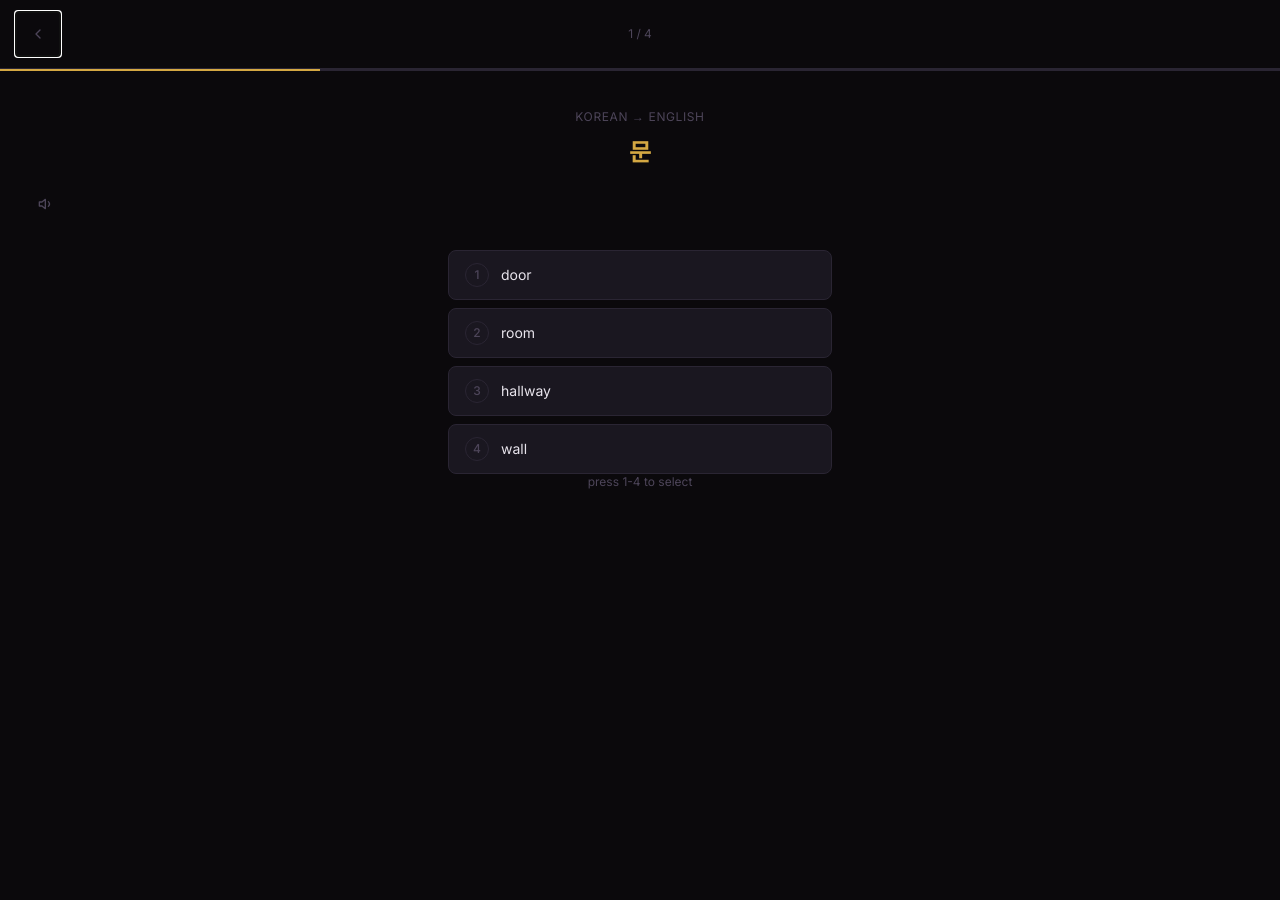
Scenario: FlashcardMode › Next button appears after selecting an option
This screenshot has width=1280, height=900.
Check: the text "Next" is not shown
Note: Select an option
Click the button with aria-label "Option 1:": [516, 274] box x1=448 y1=250 x2=832 y2=300
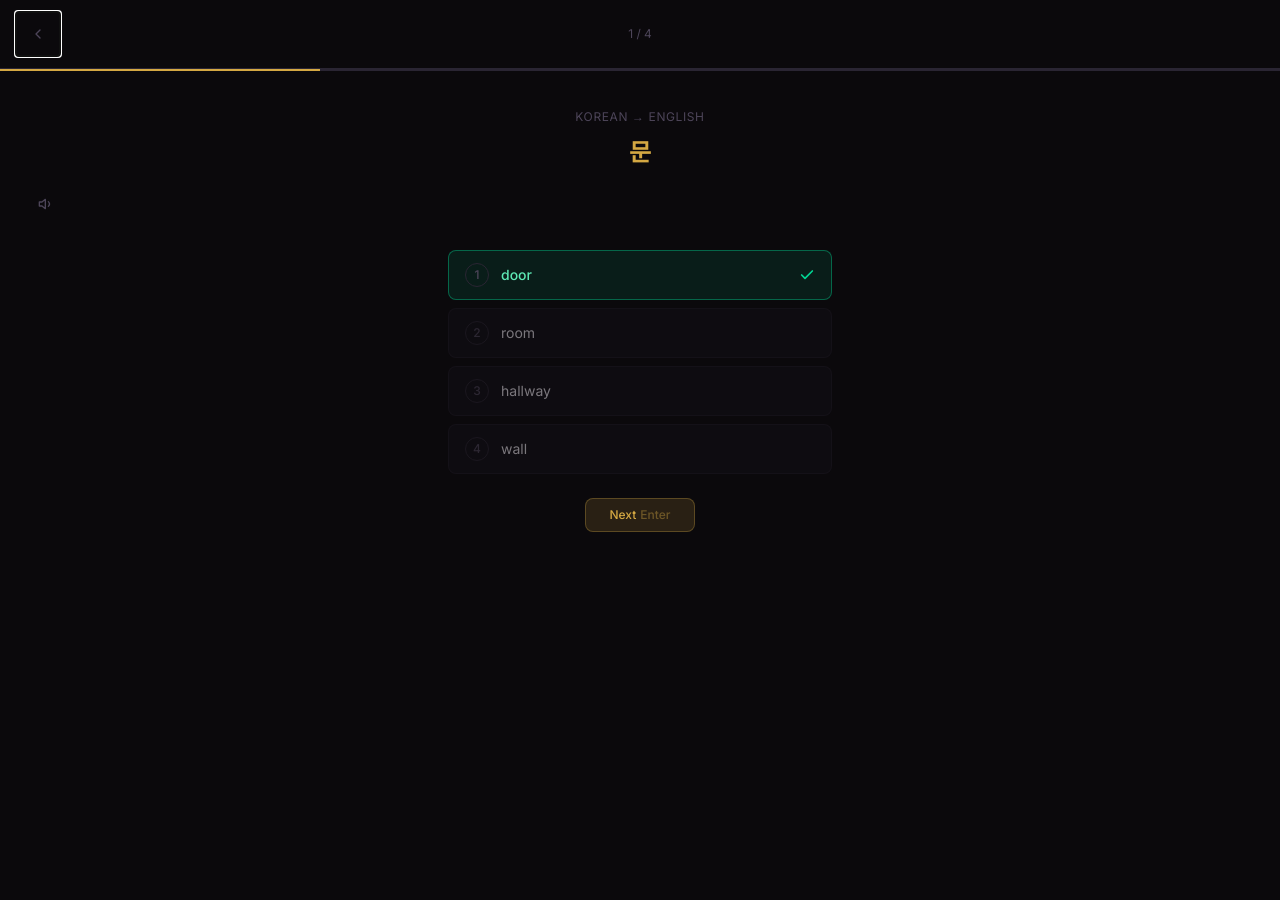
Check: the button "Next" is shown, box x1=584 y1=498 x2=696 y2=532
